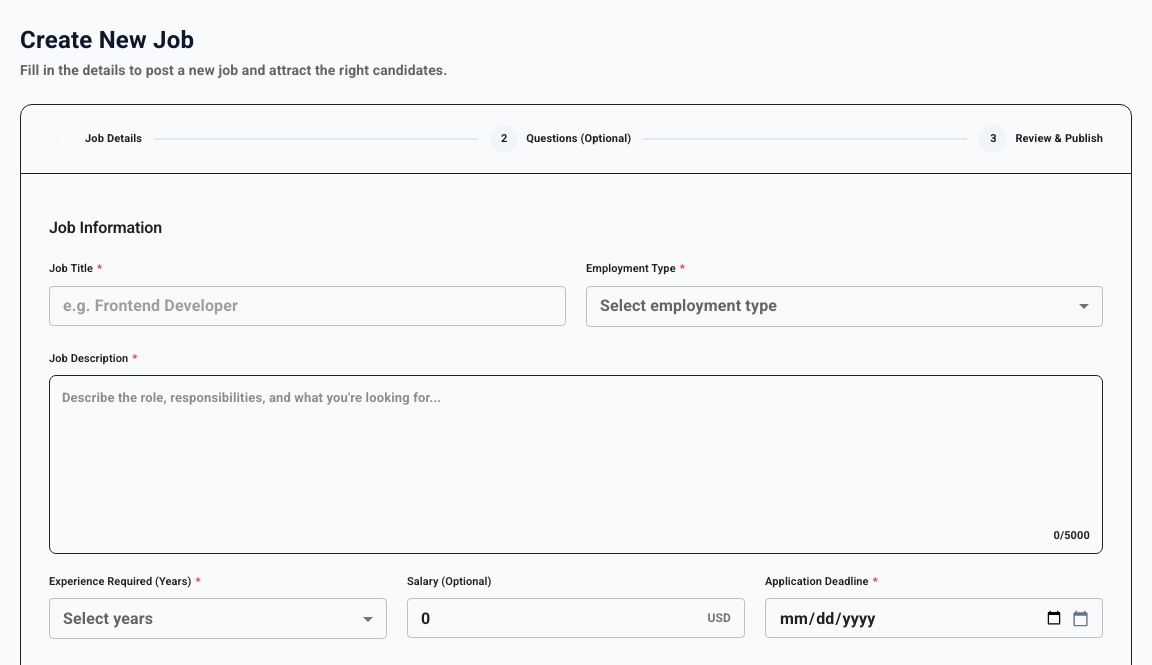
JobForm characterization › keeps the details step active and displays schema feedback when required fields are empty
The image size is (1152, 665).
Type "F" into the field with placeholder "e.g. Frontend Developer" at (308, 306), box [49,286,566,326]
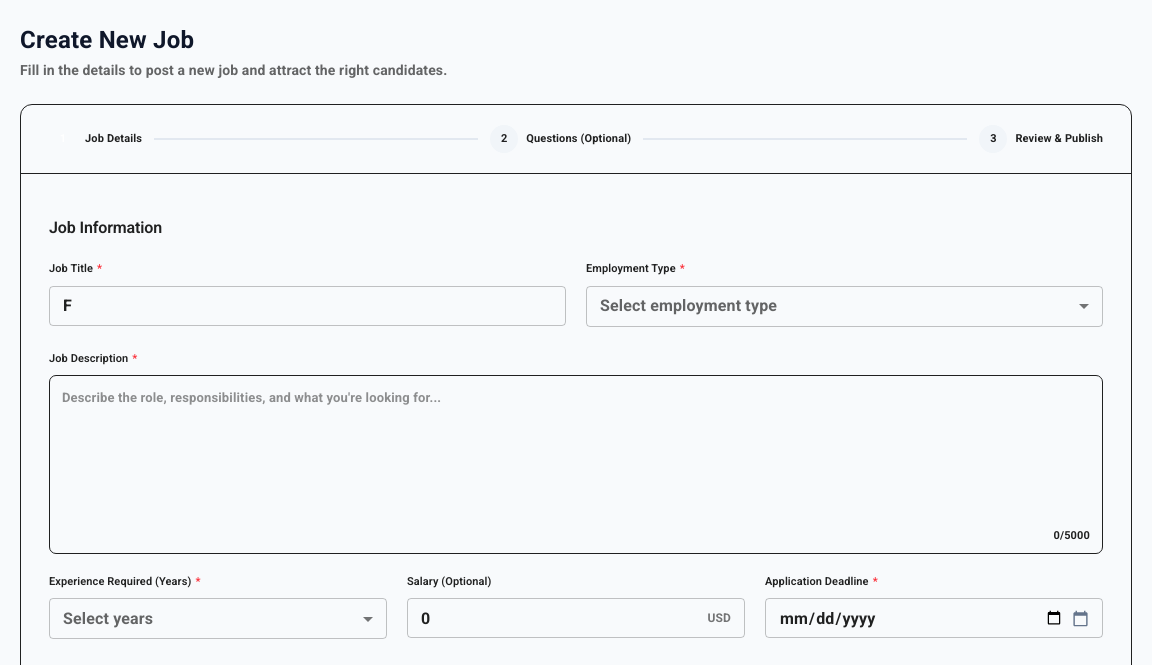
Clear the field with placeholder "e.g. Frontend Developer" at (308, 306), box [49,286,566,326]
(page scrolled)
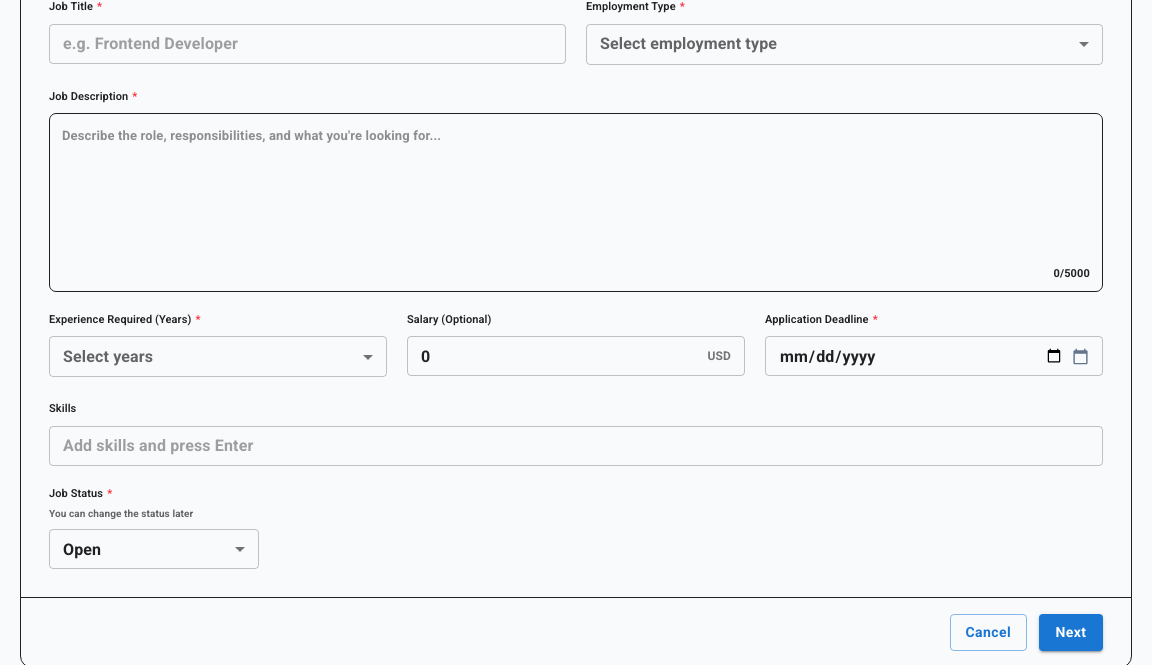
Expected: the text "Title is required" is not shown
Click the button "Next" at (1071, 632), box [1039,614,1103,651]
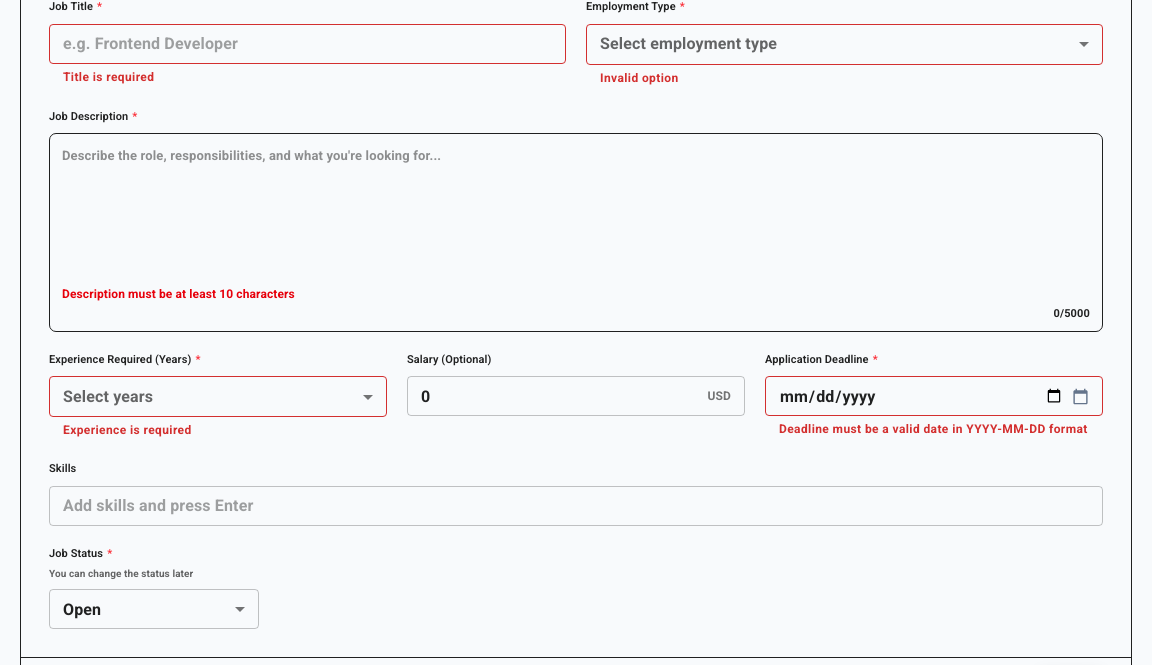
Result: the text "Title is required" is shown at [63,70,154,84]
Type "Frontend Engineer" into the field with placeholder "e.g. Frontend Developer" at (308, 44), box [49,24,566,64]
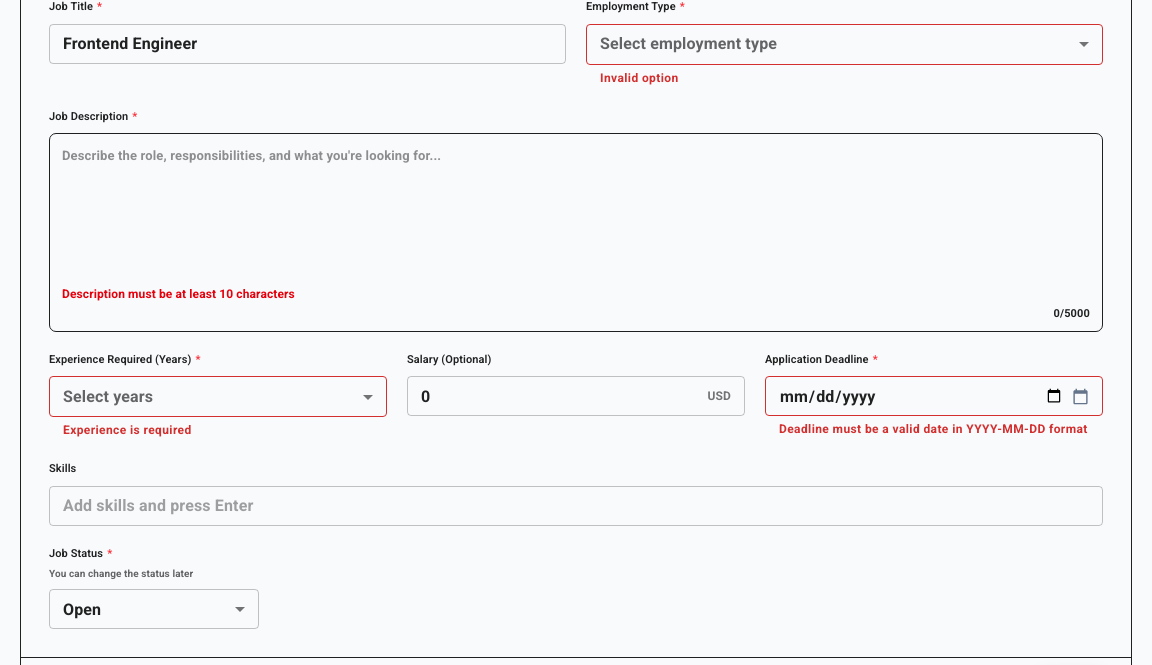
Result: the text "Title is required" is gone
